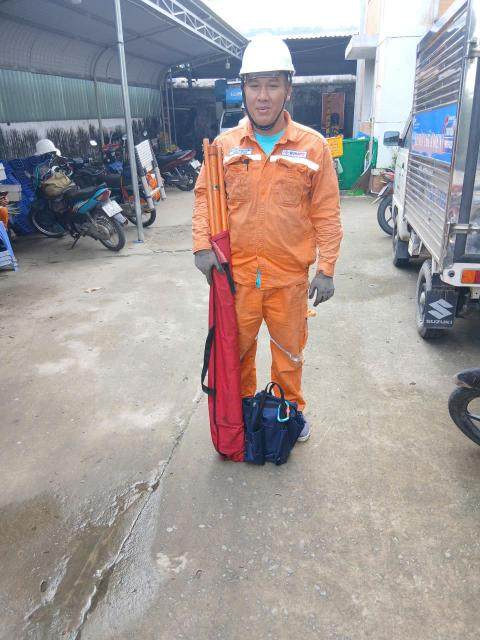gloves: (185, 247, 229, 286), (304, 266, 339, 310)
helmet: (241, 25, 302, 86)
